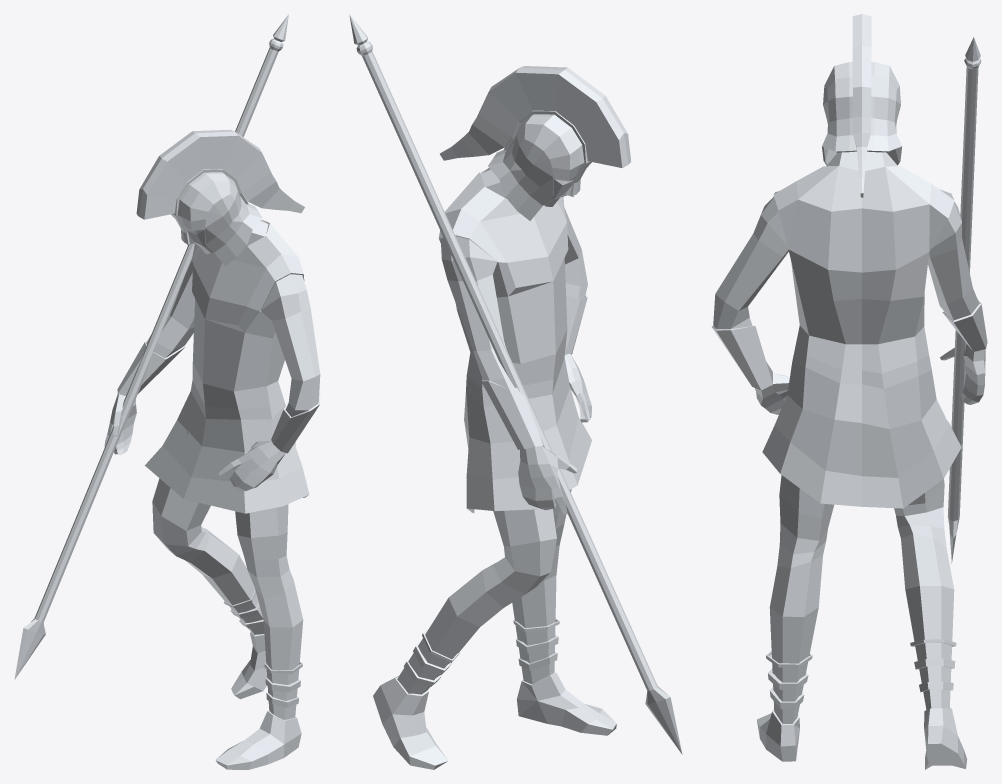
Rendered from Hoplita.fbx.
The picture shows the model from 3 angles, left to right: view 1: azimuth 30°, elevation 25°; view 2: azimuth 150°, elevation 25°; view 3: azimuth 270°, elevation 25°; orthographic projection. The views are drawn at different scales.
Parts seen in each view (by area): view 1: Hoplita; view 2: Hoplita; view 3: Hoplita.
Boxes of the visible parts, x1,y1,x2,y2 form: Hoplita: (14, 14, 320, 769); Hoplita: (349, 14, 682, 769); Hoplita: (711, 14, 987, 769).
Bounding box in the file's own units: 300 × 662 × 216.
